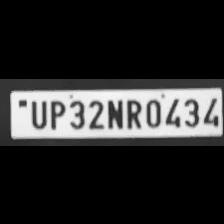0: (143, 96, 161, 127)
2: (86, 96, 104, 128)
3: (66, 96, 86, 128), (180, 96, 200, 127)
4: (201, 93, 221, 125), (163, 96, 181, 127)
N: (105, 96, 123, 128)
P: (46, 97, 66, 128)
R: (122, 96, 142, 128)
U: (28, 97, 46, 127)
